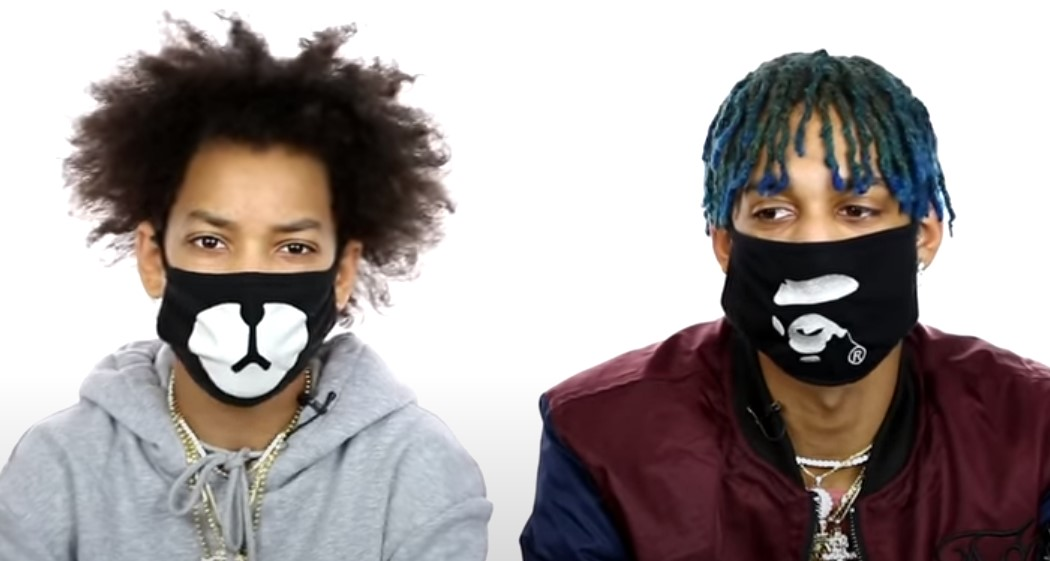face_with_mask: (131, 39, 361, 414), (714, 45, 939, 392)
